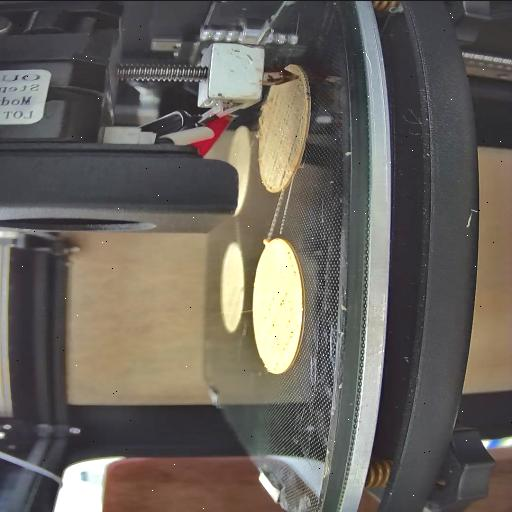under_extrusion: (262, 293, 298, 370), (266, 120, 304, 188), (273, 249, 299, 277), (292, 73, 310, 103)
